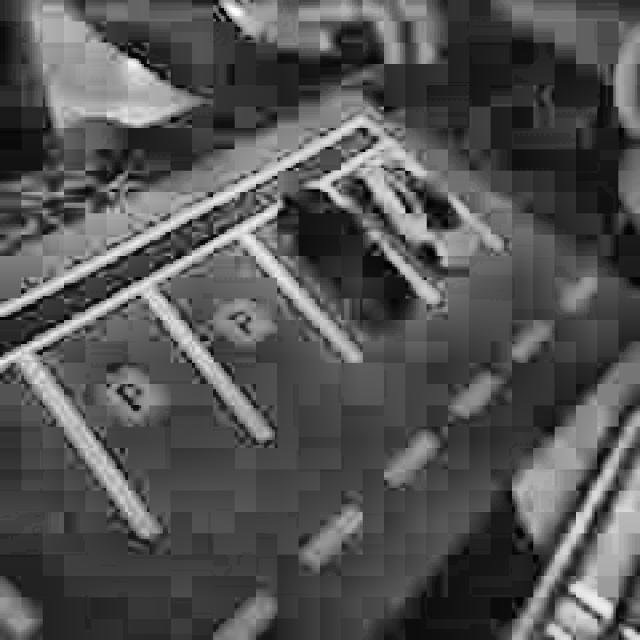car: (267, 175, 420, 340), (348, 144, 484, 284)
